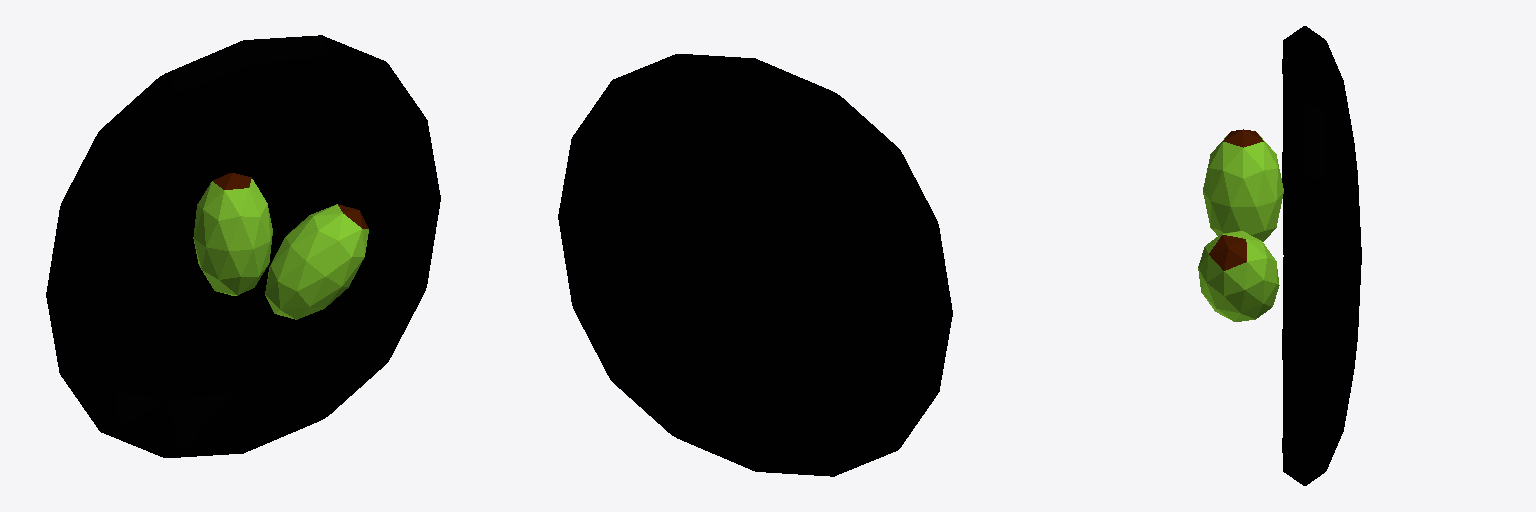
The model's file is coconuts.obj.
3 renders of one model, left to right at view 1: azimuth 30°, elevation 25°; view 2: azimuth 150°, elevation 25°; view 3: azimuth 270°, elevation 25°, orthographic.
Parts seen in each view (by area): view 1: base_Cube, Icosphere.001_Icosphere.002, Icosphere; view 2: base_Cube; view 3: base_Cube, Icosphere, Icosphere.001_Icosphere.002.
Part boxes in pixels (left/top/right/bottom): base_Cube: left=46, top=35, right=440, bottom=457; Icosphere.001_Icosphere.002: left=265, top=204, right=368, bottom=319; Icosphere: left=193, top=173, right=272, bottom=295; base_Cube: left=558, top=54, right=952, bottom=476; base_Cube: left=1282, top=26, right=1361, bottom=485; Icosphere: left=1203, top=129, right=1283, bottom=241; Icosphere.001_Icosphere.002: left=1198, top=231, right=1279, bottom=321.
Size of the model in its own units: 3.36 by 3.36 by 1.21.